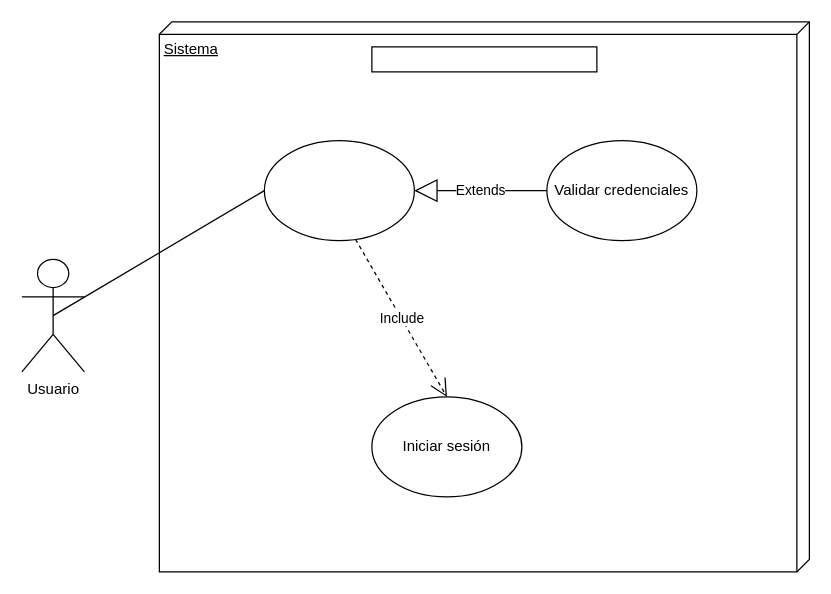
The diagram is 831 pixels wide and 594 high, and some of its shapes have lost their labels. Here are the shapes that lost their labels. From the top down, the centre of each, then its label:
At point (484, 59): "Inicio sesión".
At point (338, 190): "Ingresar credenciales".
